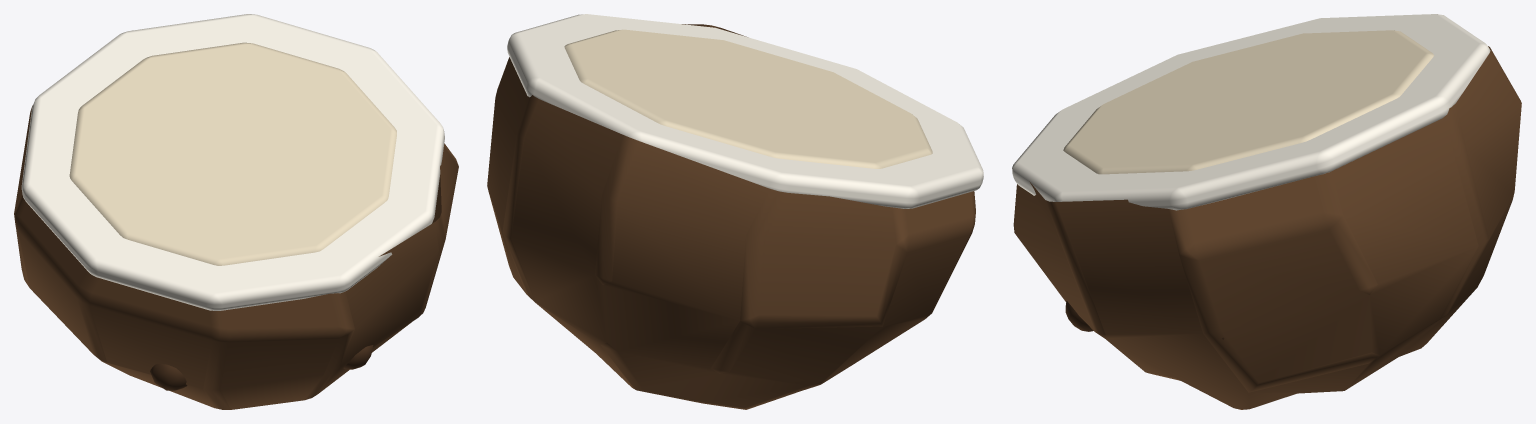
Rendered from Coconut.glb.
3 views of the same model, side by side, from view 1: azimuth 30°, elevation 25°; view 2: azimuth 150°, elevation 25°; view 3: azimuth 270°, elevation 25° (orthographic). The views are drawn at different scales.
Parts seen in each view (by area): view 1: Coconut; view 2: Coconut; view 3: Coconut.
Boxes of the visible parts, bbox=[...] form: Coconut: bbox=[14, 14, 458, 409]; Coconut: bbox=[487, 14, 983, 409]; Coconut: bbox=[1012, 14, 1521, 409].
Size of the model in its own units: 0.1195 by 0.0877 by 0.1226.
